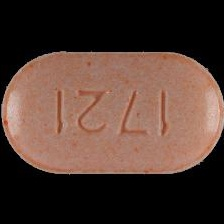0093-1721: (0, 0, 224, 224)
